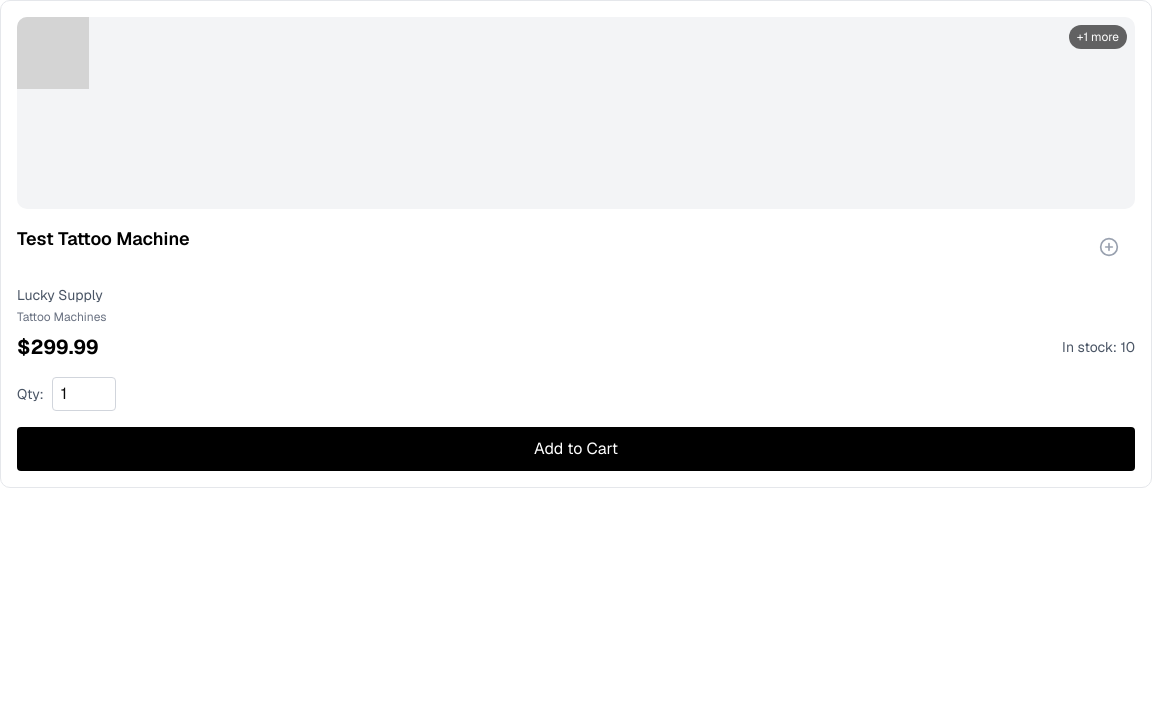
it: ProductCard › allows quantity adjustment
Click the number field labelled "Qty:" at (84, 394), box [52,377,116,411]
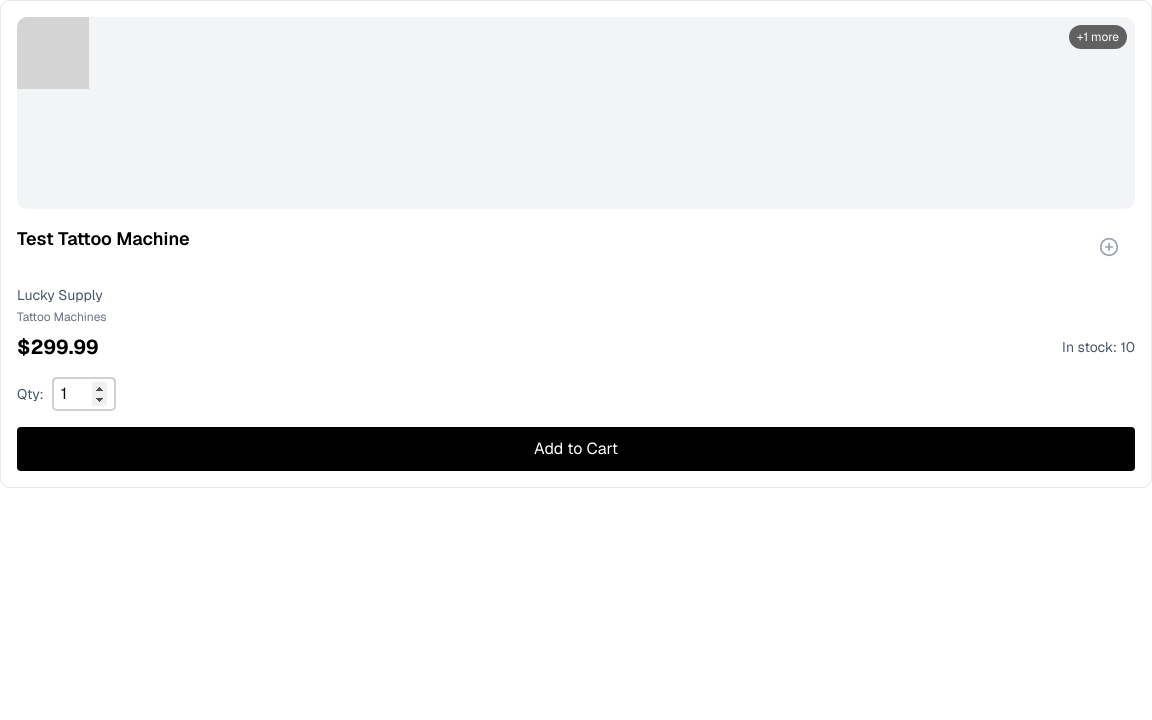
Type keys "{Control>}a{/Control}"
Type keys "3"
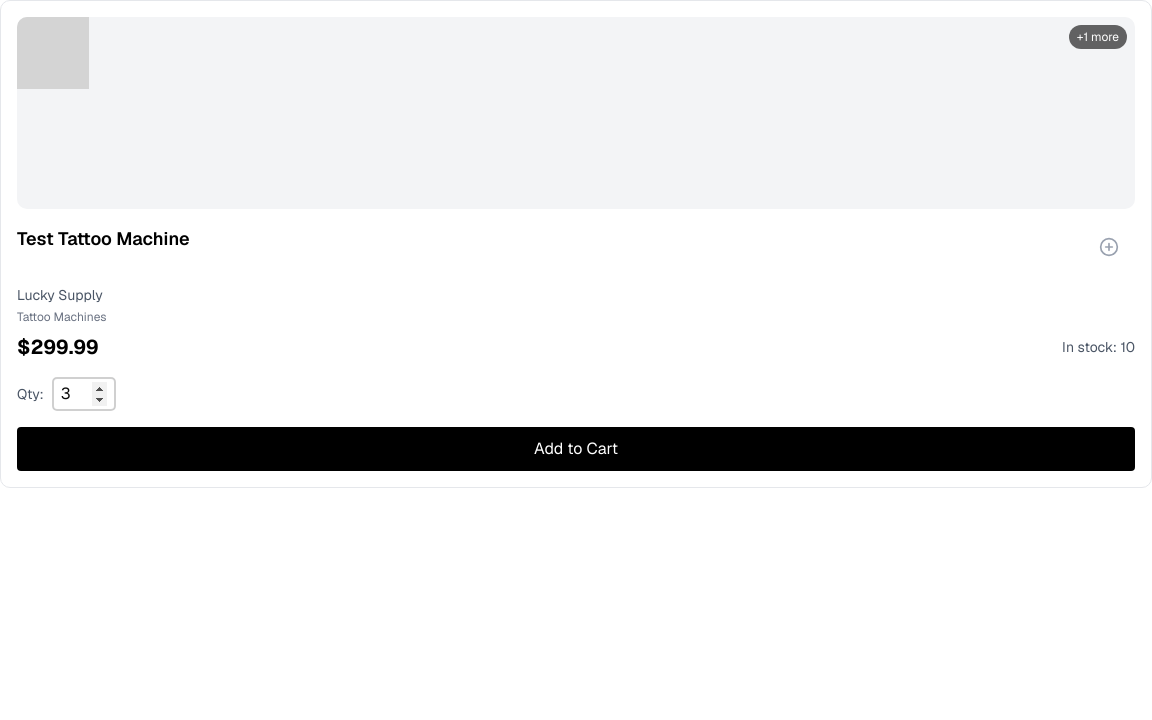
Check: the number field labelled "Qty:" holds "3", box [52,377,116,411]
